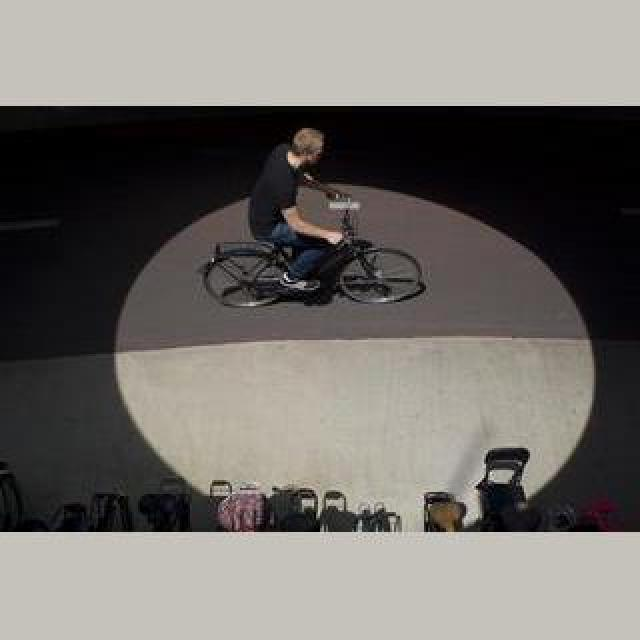MC-Bike: (248, 126, 356, 298)
Person: (202, 194, 424, 308)
